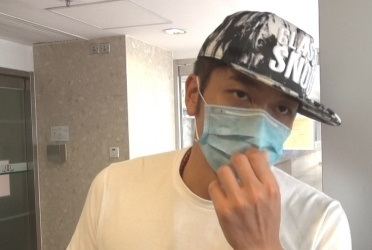face_mask: (197, 58, 295, 181)
